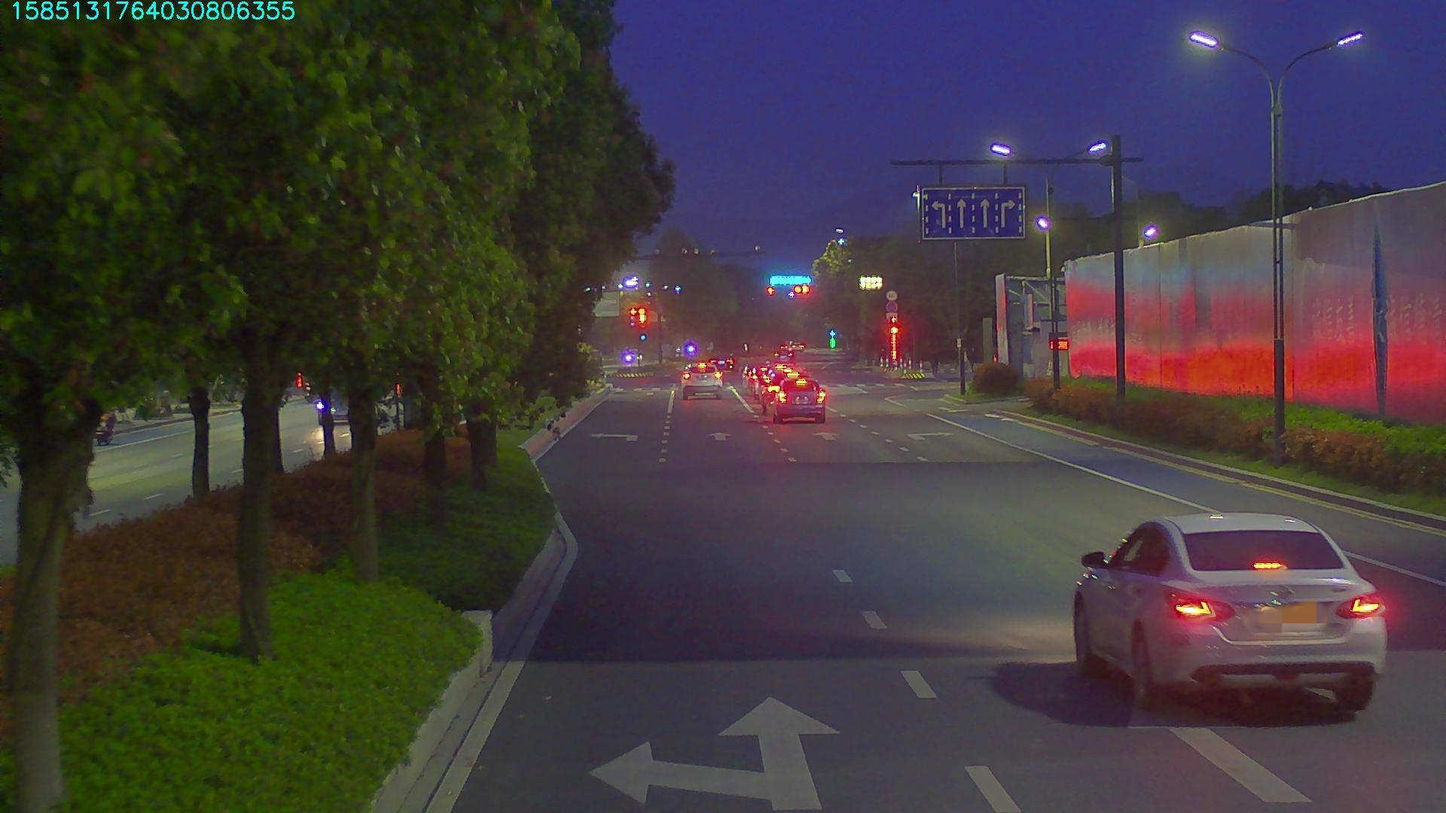red: (766, 282, 779, 297), (792, 282, 804, 293)
wait_on: (768, 273, 810, 285)
